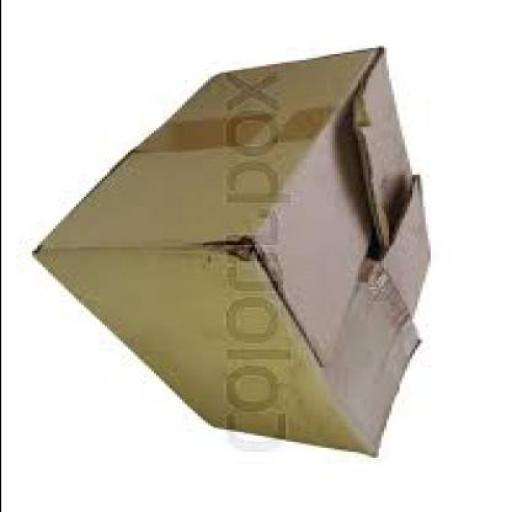cardboard: (36, 48, 432, 460)
